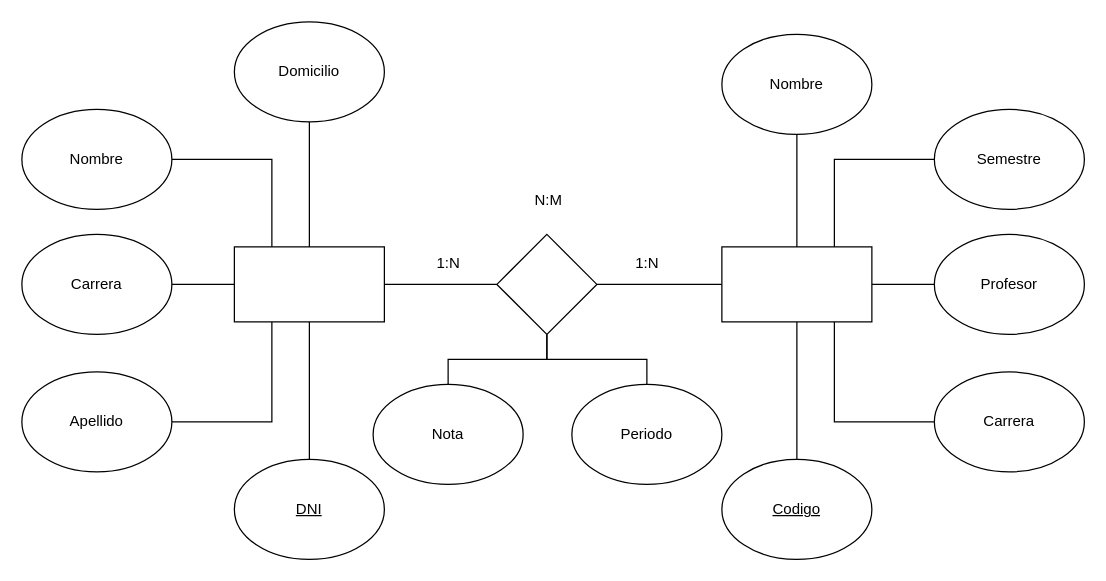
Some shapes in this 1106 by 581 pixel diagram are drawn without their labels. Each missing label, with the centre of its shape:
Alumnos: the point at 308,284
Asignatura: the point at 796,284
Matricula: the point at 546,283
